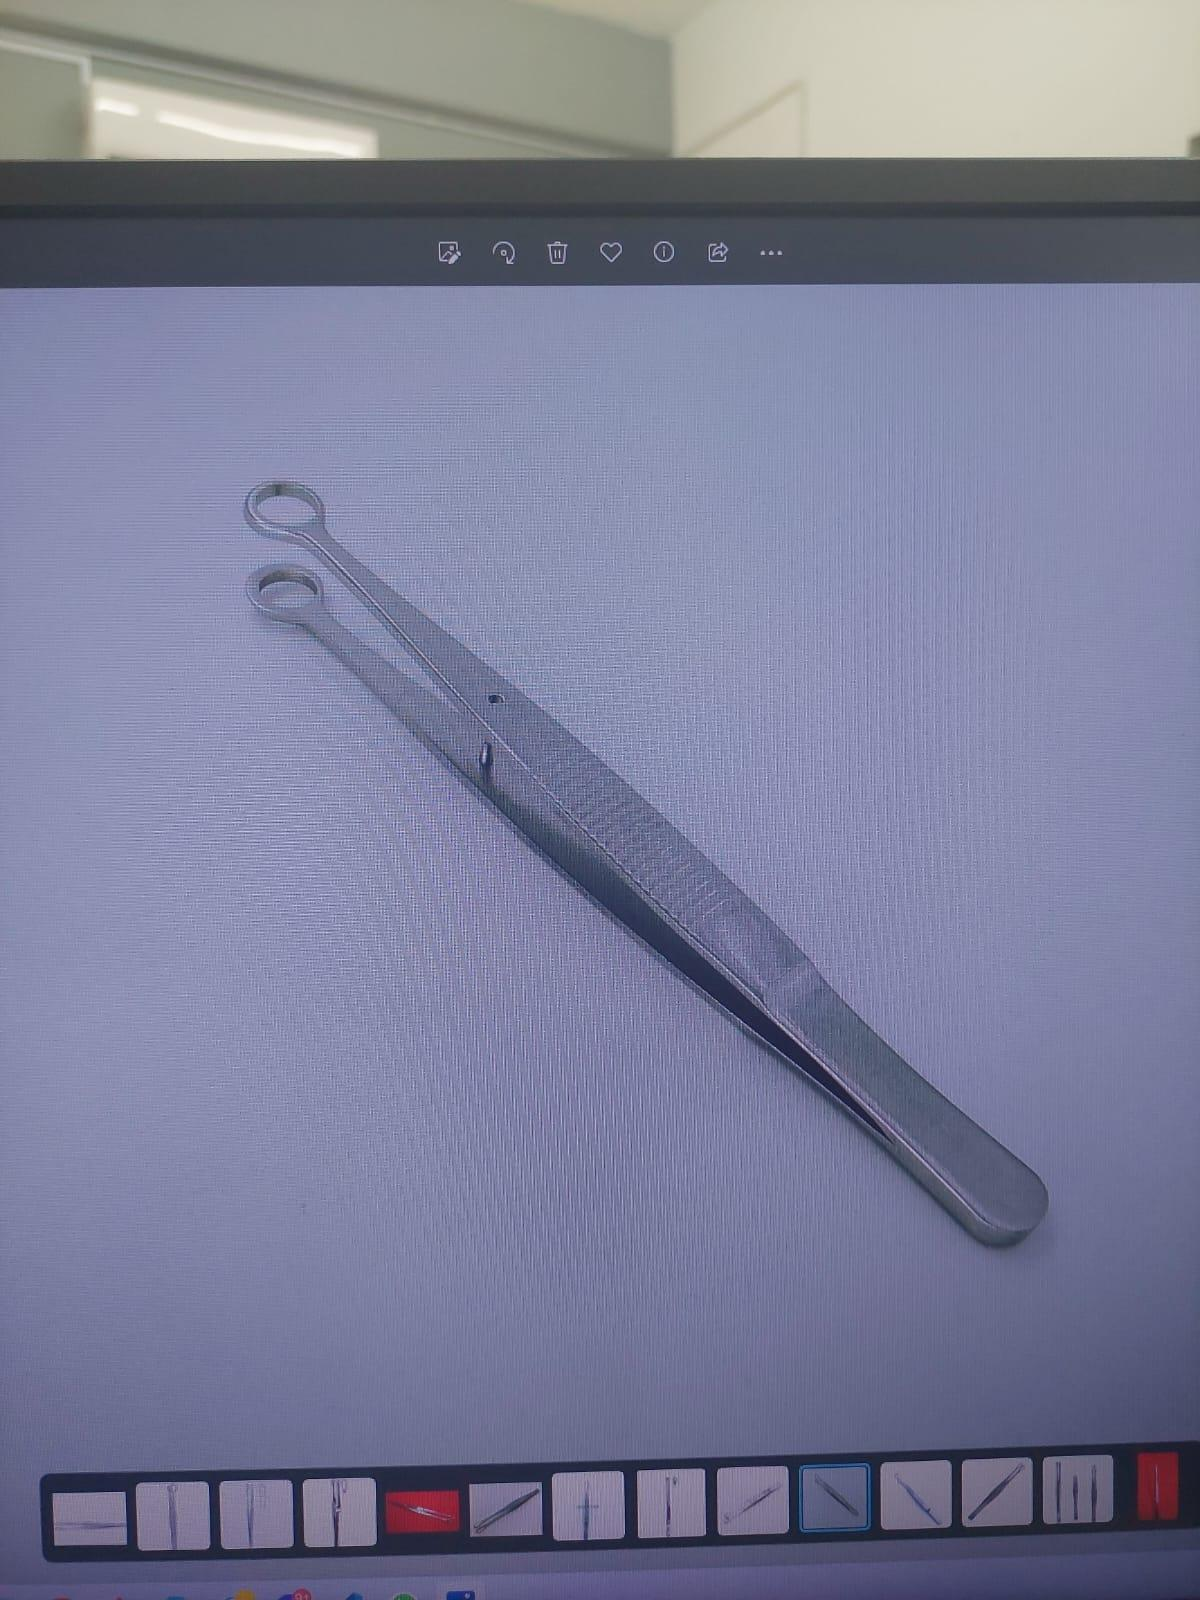Eye Intestinal Forceps: (227, 450, 1045, 1265)
